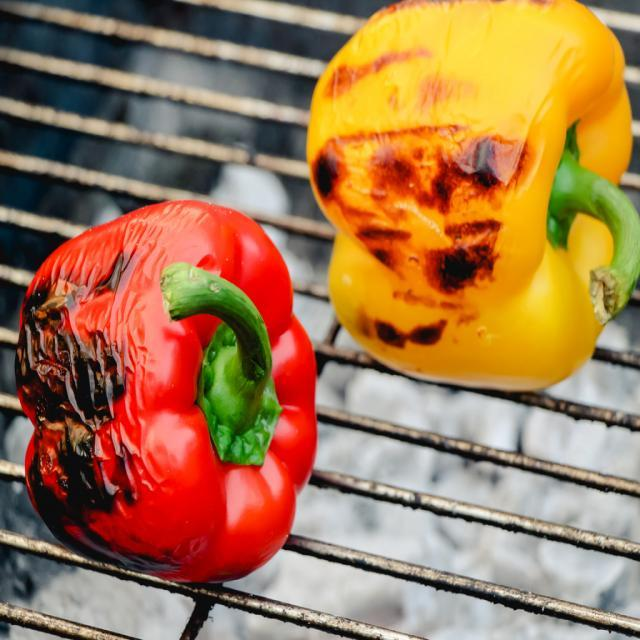Bell pepper: (308, 0, 639, 398), (14, 201, 318, 587)
